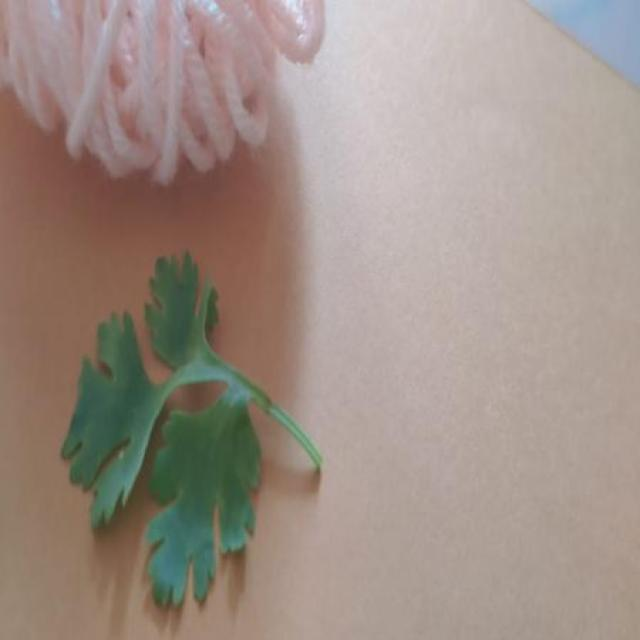coriender: (62, 252, 322, 603)
